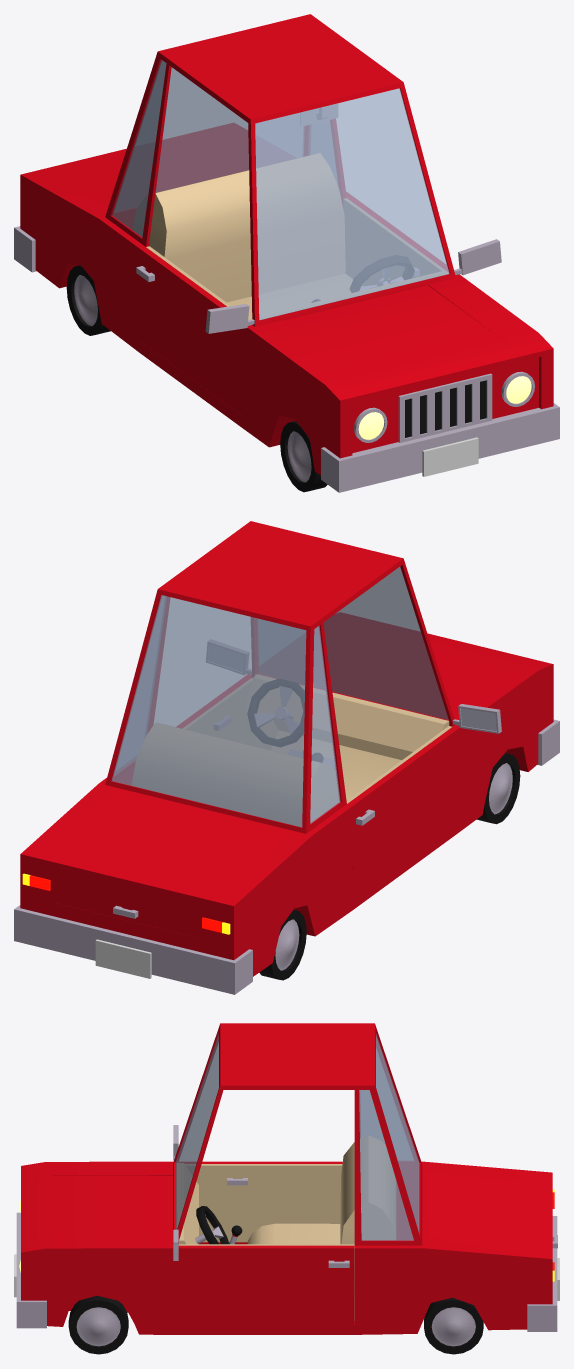
The model's file is car model.fbx.
3 renders of one model, top to bottom at view 1: azimuth 30°, elevation 25°; view 2: azimuth 150°, elevation 25°; view 3: azimuth 270°, elevation 25°, orthographic. The views are drawn at different scales.
Visible parts, largest first — view 1: chasse.001, seat.001, hood.001, door right, Bumper_front, trunk.001, door left, wheel_backleft.004, wheel_backleft.005, Bumper_back; view 2: chasse.001, trunk.001, seat.001, door right, hood.001, Bumper_back, door left, wheel_backleft.004, wheel_backleft.005, Bumper_front; view 3: chasse.001, door left, door right, hood.001, trunk.001, seat.001, wheel_backleft.007, wheel_backleft.006, Bumper_front, Bumper_back.
Boxes of the visible parts, x1,y1,x2,y2 form: chasse.001: (20,14,553,474); seat.001: (133,153,352,319); hood.001: (284,285,518,391); door right: (136,246,249,417); Bumper_front: (321,403,559,492); trunk.001: (55,131,248,197); door left: (343,197,448,285); wheel_backleft.004: (280,421,327,492); wheel_backleft.005: (66,265,110,335); Bumper_back: (14,226,36,272); chasse.001: (20,521,553,976); trunk.001: (54,795,273,937); seat.001: (132,723,338,826); door right: (346,726,458,897); hood.001: (327,621,518,713); Bumper_back: (14,905,252,994); door left: (177,676,254,745); wheel_backleft.004: (477,753,520,824); wheel_backleft.005: (259,910,306,980); Bumper_front: (537,719,559,765); chasse.001: (19,1023,554,1334); door left: (178,1244,354,1324); door right: (179,1161,342,1242); hood.001: (21,1176,172,1238); trunk.001: (429,1176,557,1248); seat.001: (247,1136,395,1320); wheel_backleft.007: (68,1295,128,1354); wheel_backleft.006: (424,1297,483,1354); Bumper_front: (14,1212,46,1328); Bumper_back: (527,1216,559,1331).
Size of the model in its own units: 291 by 295 by 566.
